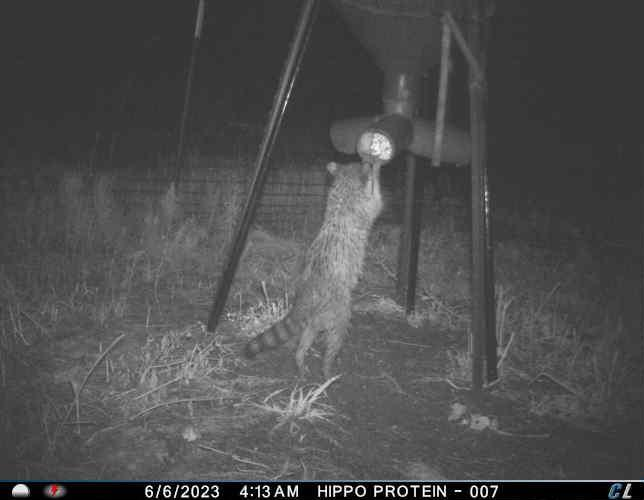Raccoon: (238, 157, 385, 386)
